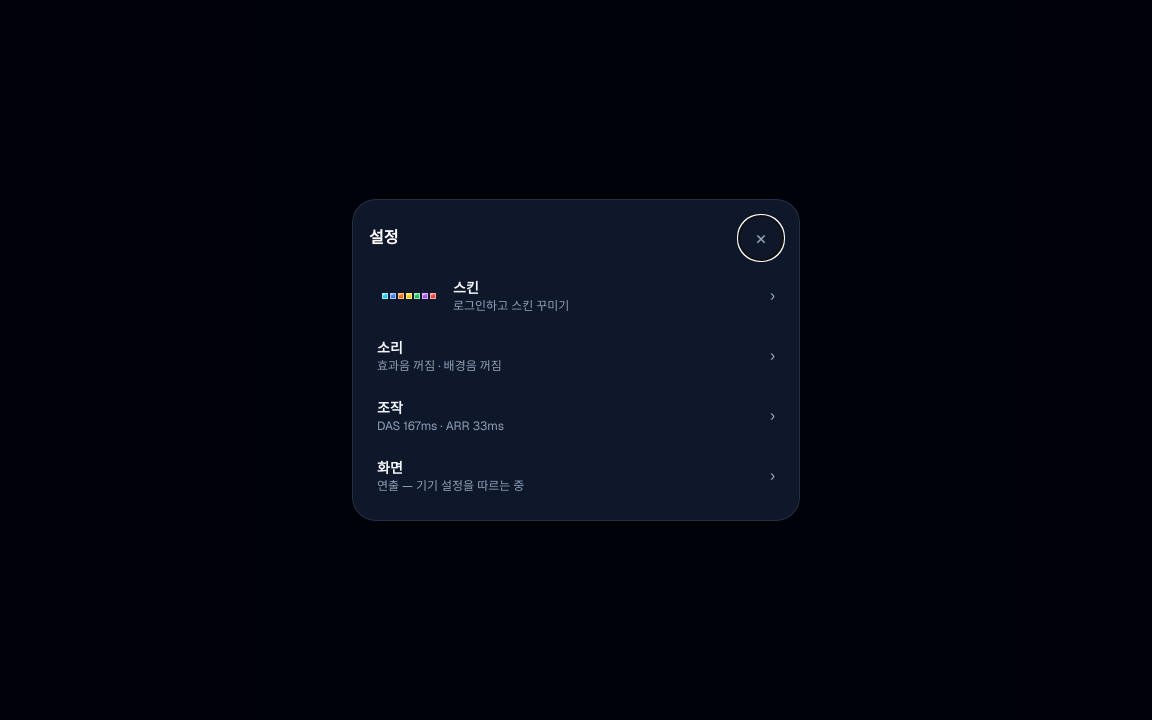
Test: 테트리스 설정 시트 (D-001·D-006) › 싱글 플레이 중 — 바꿀 수 있고 "다음 판부터"를 알린다
This screenshot has width=1152, height=720.
What coordinates should you click on to do the following:
click the button with test id "settings-group-controls"
I would click on:
 (440, 426)
Its box is [369, 388, 783, 444].
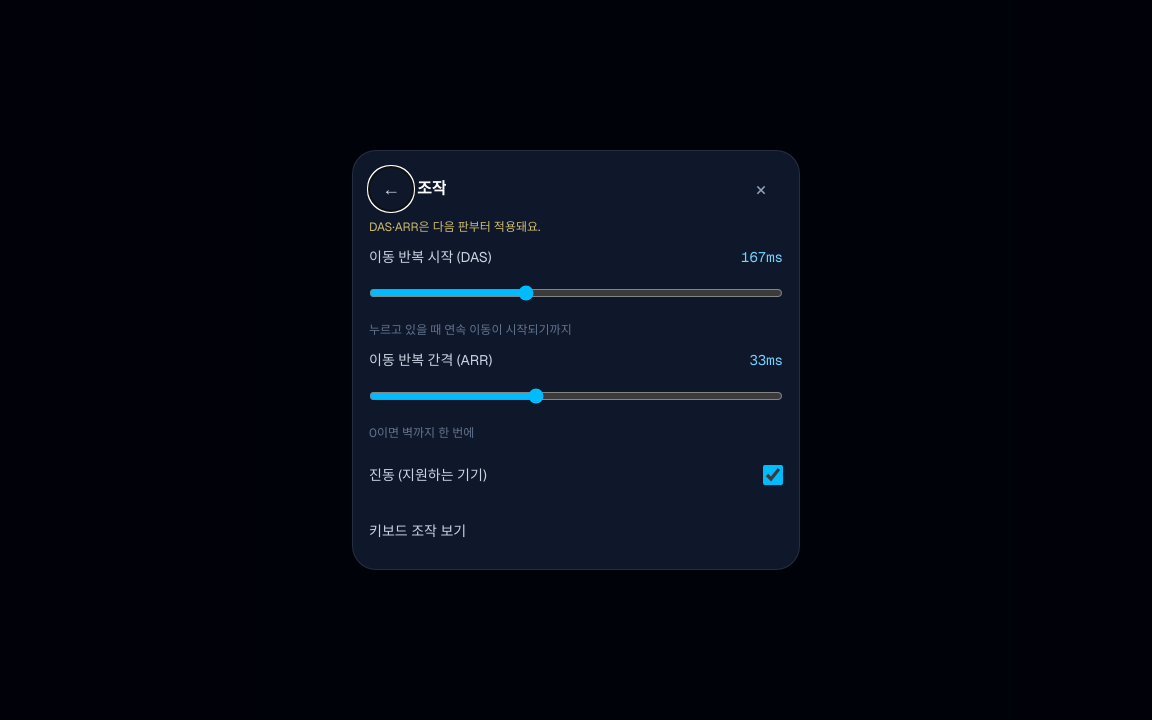
Check: the text "DAS·ARR은 다음 판부터 적용돼요." is shown, box [369, 219, 540, 235]
Check: the slider labelled "이동 반복 간격 (ARR)" is shown, box [369, 374, 783, 418]
